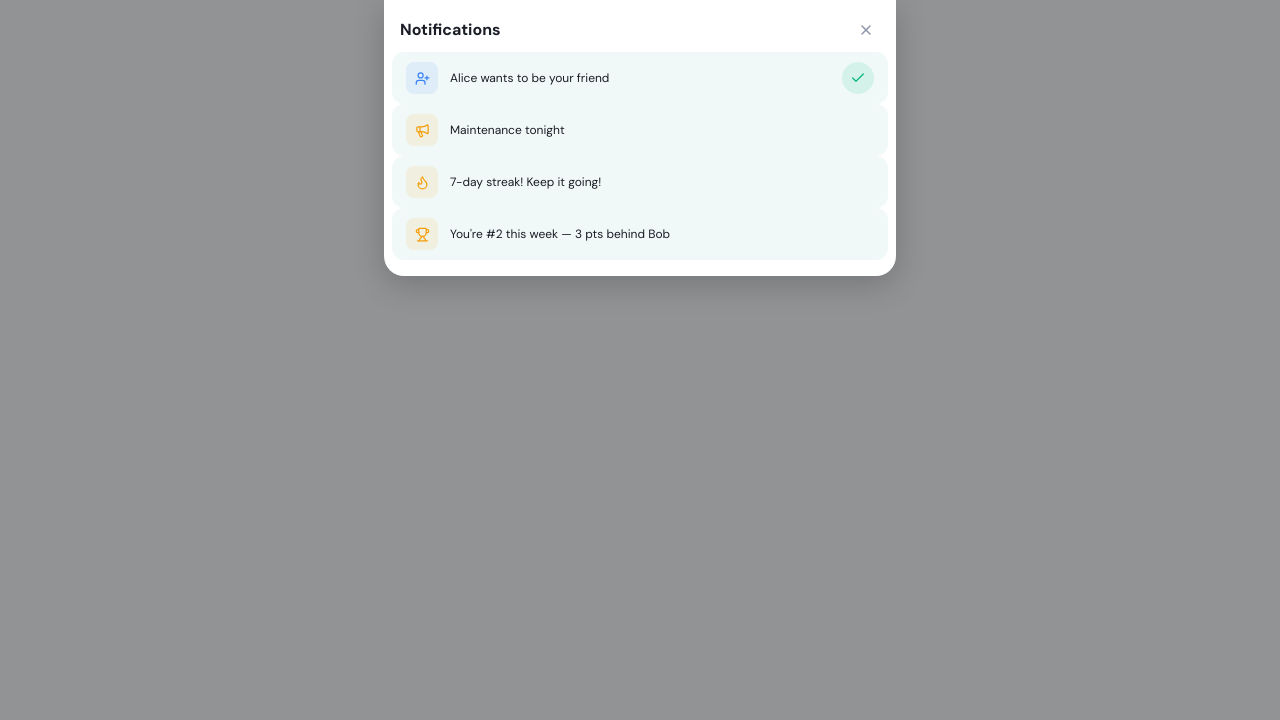
it: NotificationCenter › expands announcement body when clicked
Click the text "Maintenance tonight" at (507, 130), box [450, 122, 565, 138]
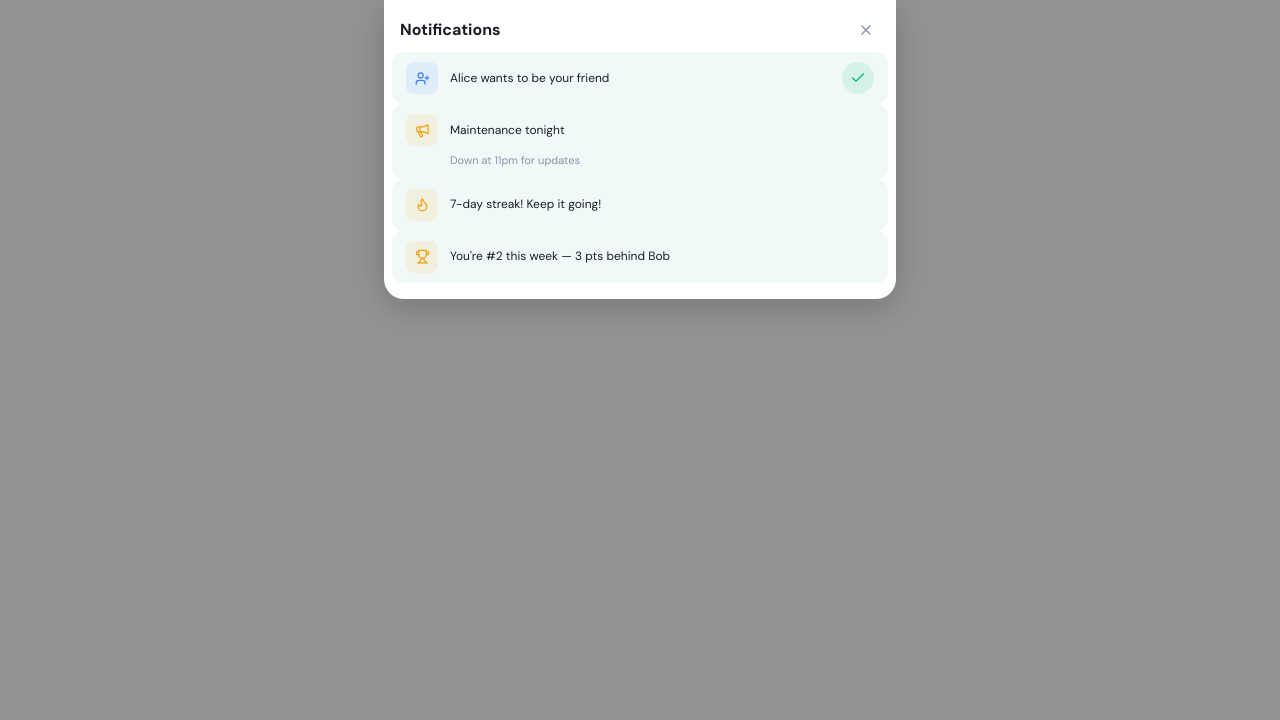
Expected: the text "Down at 11pm for updates" is shown, [450, 153, 580, 167]
